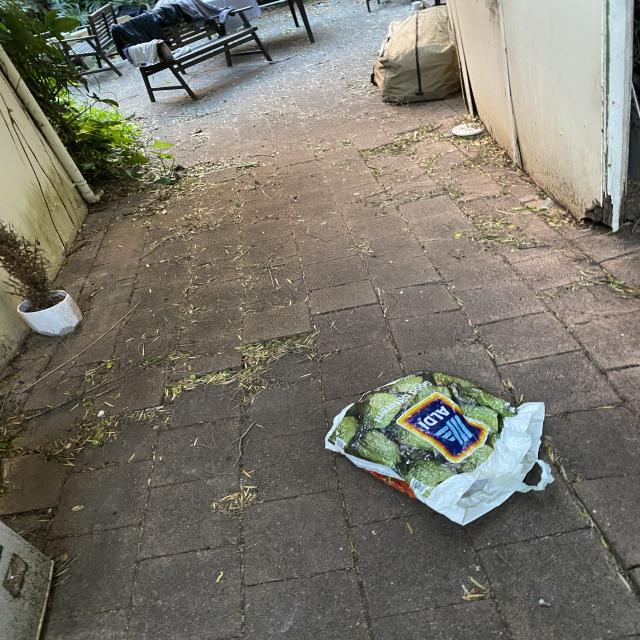bag: (326, 370, 559, 530)
container: (10, 282, 84, 340)
